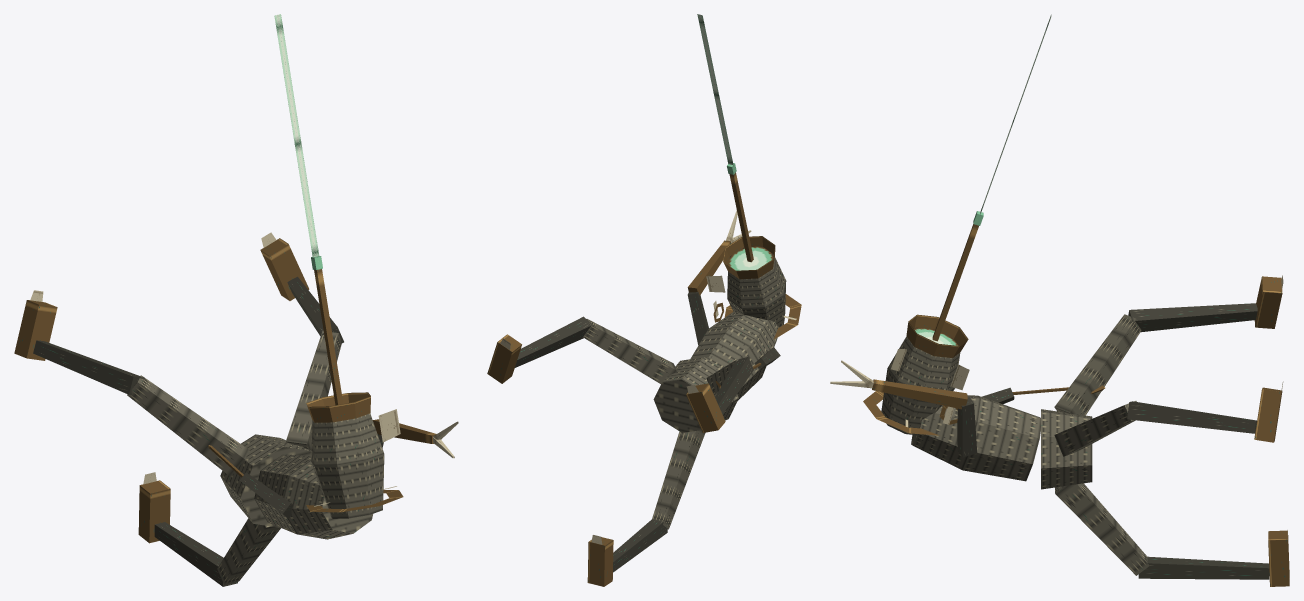
File: surveyor_warning.obj
3 views of the same model, side by side, from view 1: azimuth 30°, elevation 25°; view 2: azimuth 150°, elevation 25°; view 3: azimuth 270°, elevation 25° (orthographic). The views are drawn at different scales.
Visible parts, largest first — view 1: head, torso, leg_fl_thigh, root, leg_fr_thigh, leg_fl_shin, leg_rear_thigh, vane, leg_fl_foot, leg_rear_shin, leg_rear_foot, leg_fr_foot (+4 smaller); view 2: head, torso, root, leg_rear_thigh, leg_fr_thigh, caliper, leg_fr_shin, leg_fl_foot, leg_rear_foot, leg_rear_shin, leg_fr_foot, leg_fl_shin (+3 smaller); view 3: torso, head, leg_fl_thigh, root, leg_rear_thigh, caliper, leg_fl_shin, leg_rear_shin, leg_fr_shin, leg_fr_thigh, leg_fl_foot, leg_rear_foot (+3 smaller).
Part boxes in pixels (x1,y1,x2,y2): head: (306,392,400,518); torso: (254,454,372,539); leg_fl_thigh: (127,375,249,476); root: (220,434,311,527); leg_fr_thigh: (286,331,341,450); leg_fl_shin: (33,340,144,394); leg_rear_thigh: (217,518,280,584); vane: (274,14,319,257); leg_fl_foot: (14,290,57,360); leg_rear_shin: (154,522,237,586); leg_rear_foot: (138,472,170,543); leg_fr_foot: (260,232,309,300); head: (706,236,786,327); torso: (690,301,778,400); root: (653,357,738,432); leg_rear_thigh: (652,430,705,529); leg_fr_thigh: (583,319,677,383); caliper: (687,210,751,345); leg_fr_shin: (515,316,592,367); leg_fl_foot: (686,383,725,432); leg_rear_foot: (587,535,613,586); leg_rear_shin: (613,519,667,572); leg_fr_foot: (487,334,521,383); leg_fl_shin: (715,357,753,414); torso: (911,395,1040,481); head: (881,314,969,435); leg_fl_thigh: (1054,314,1141,415); root: (1041,409,1092,489); leg_rear_thigh: (1055,483,1149,575); caliper: (830,360,977,457); leg_fl_shin: (1128,303,1257,332); leg_rear_shin: (1138,556,1269,579); leg_fr_shin: (1127,401,1256,433); leg_fr_thigh: (1054,401,1136,456); leg_fl_foot: (1254,275,1283,328); leg_rear_foot: (1268,530,1289,586).
Bounding box in the file's own units: 0.6817 × 1.39 × 1.02.
1 material, 1 textured.
